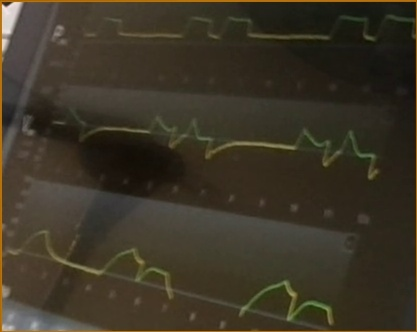Double_Triggering Flow: (53, 97, 379, 182)
Double_Triggering Volume: (14, 223, 336, 325)
